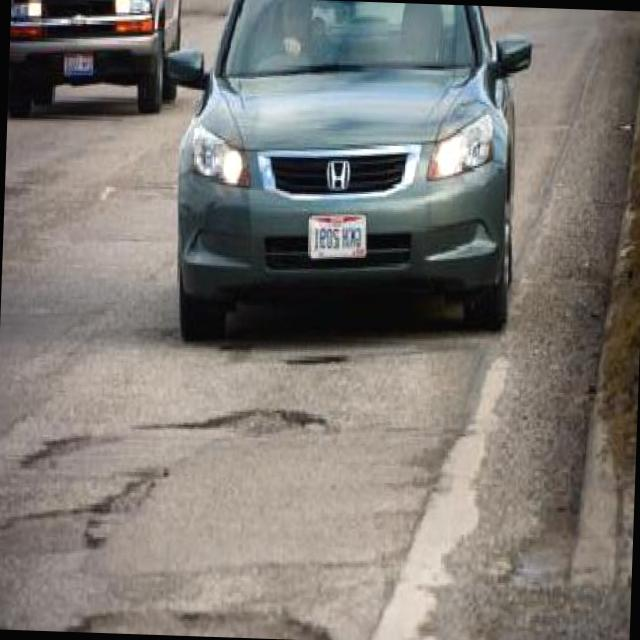Lubang: (68, 608, 330, 638), (191, 407, 329, 436)
